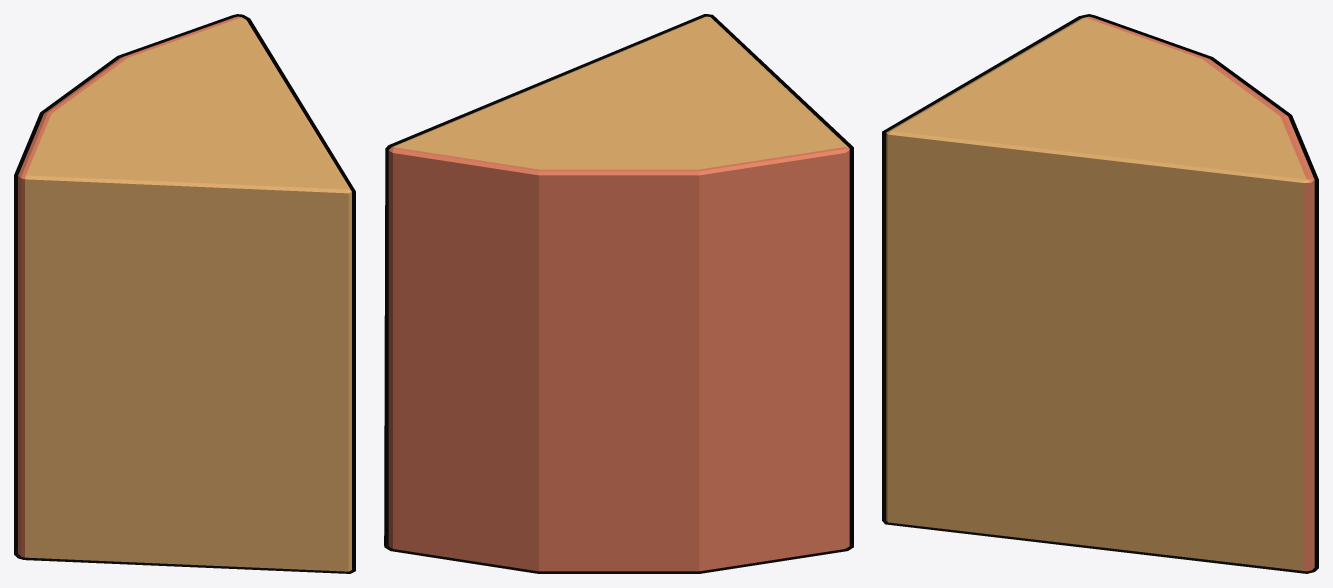
The model's file is Guada.fbx.
3 renders of one model, left to right at view 1: azimuth 30°, elevation 25°; view 2: azimuth 150°, elevation 25°; view 3: azimuth 270°, elevation 25°, orthographic. The views are drawn at different scales.
Parts seen in each view (by area): view 1: Cylinder; view 2: Cylinder; view 3: Cylinder.
Boxes of the visible parts, <box> form: Cylinder: <box>14,14,355,573</box>; Cylinder: <box>384,14,853,573</box>; Cylinder: <box>882,14,1318,573</box>.
Size of the model in its own units: 88.69 by 96.67 by 96.68.
